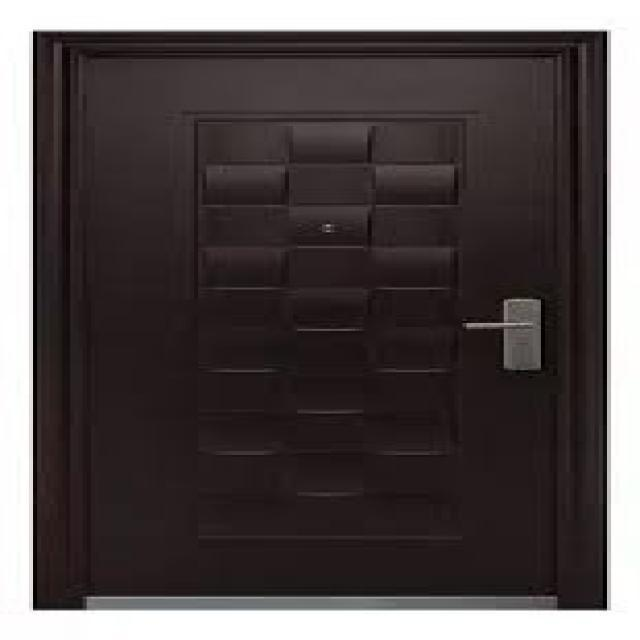door: (35, 31, 601, 610)
